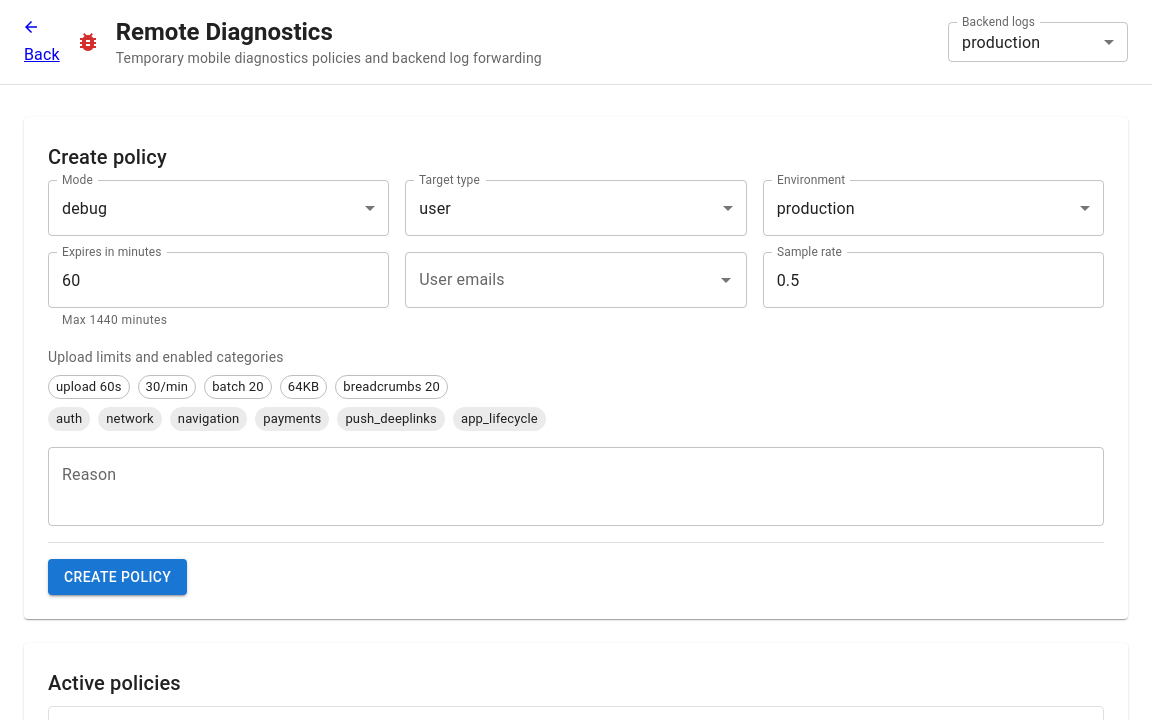
RemoteDiagnosticsPage › updates backend log forwarding from the header without creating a policy
The image size is (1152, 720).
Select "dev/debug" in the dropdown labelled "Backend logs": (1038, 42) 948,22 -> 1128,62
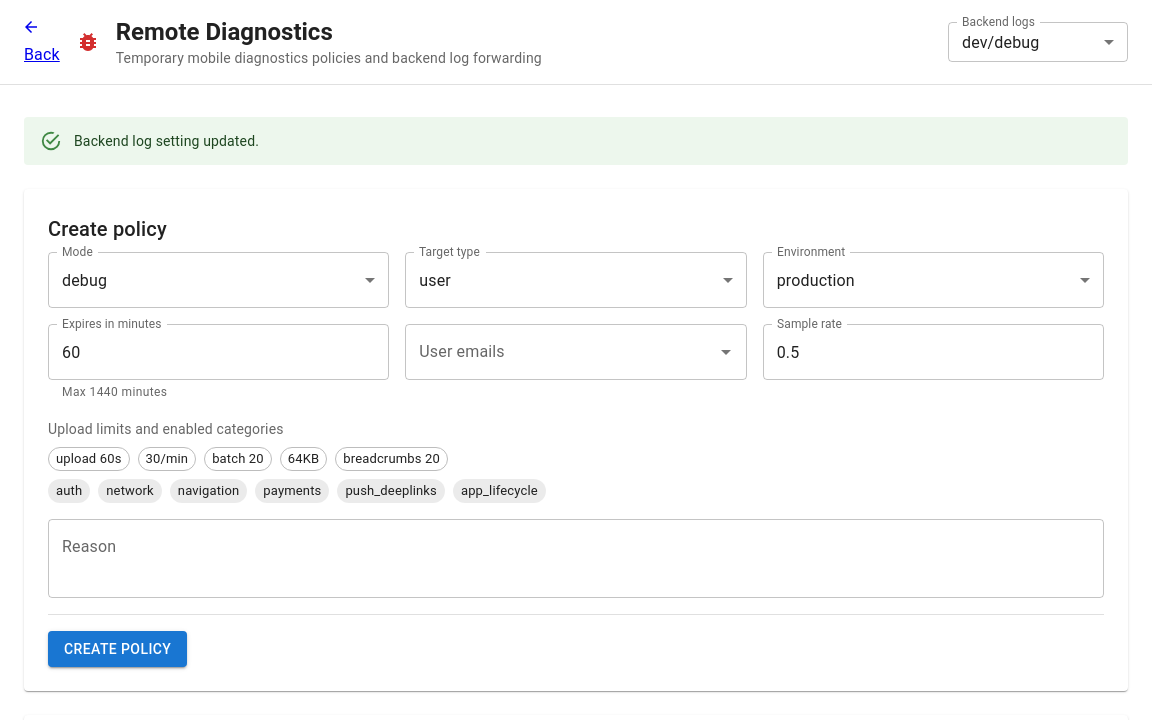
Check: the text "Backend log setting updated." is shown, box 74,133 -> 259,149
